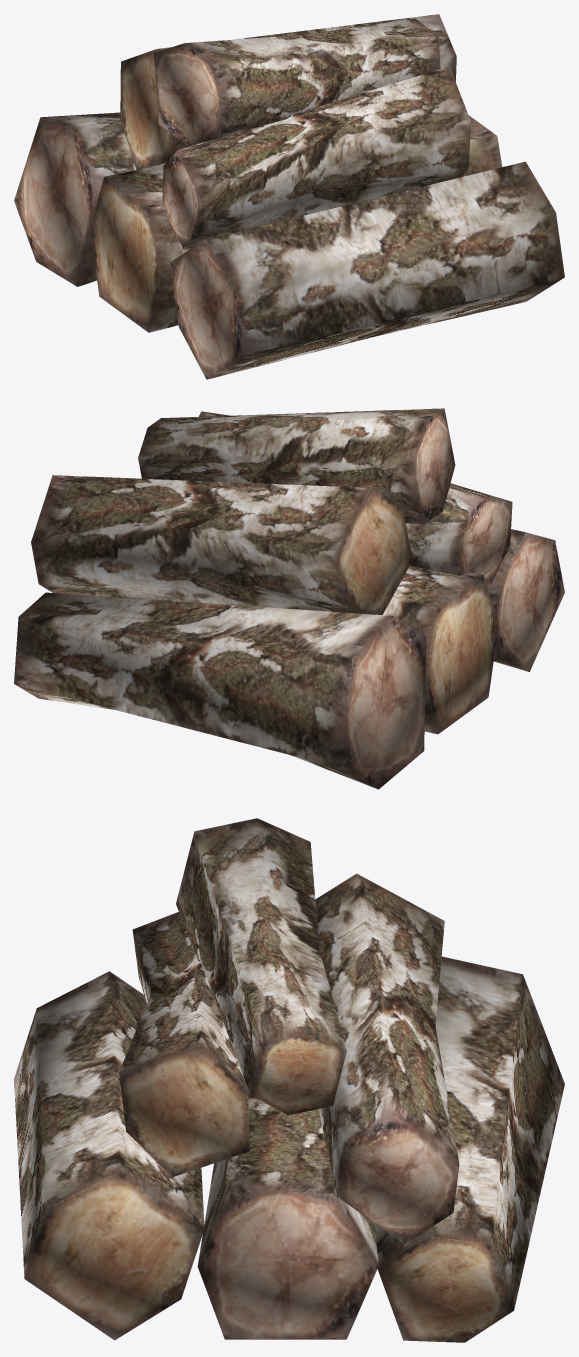
Rendered from FireWood.fbx.
3 views of the same model, one above another, from view 1: azimuth 30°, elevation 25°; view 2: azimuth 150°, elevation 25°; view 3: azimuth 270°, elevation 25° (orthographic). The views are drawn at different scales.
Visible parts, largest first — view 1: fire_wood; view 2: fire_wood; view 3: fire_wood.
Boxes of the visible parts, x1,y1,x2,y2 form: fire_wood: (14, 14, 564, 379); fire_wood: (14, 408, 564, 789); fire_wood: (14, 818, 564, 1342).
Bounding box in the file's own units: 0.7688 × 0.578 × 0.8208.
